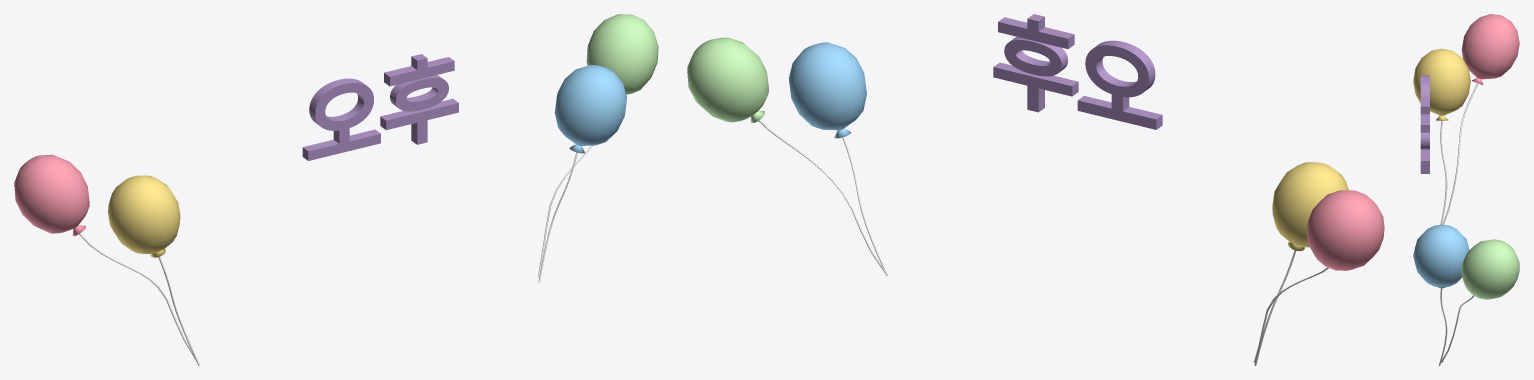
The model's file is BalloonShopDecor_split.glb.
3 renders of one model, left to right at view 1: azimuth 30°, elevation 25°; view 2: azimuth 150°, elevation 25°; view 3: azimuth 270°, elevation 25°, orthographic. The views are drawn at different scales.
Visible parts, largest first — view 1: ShopSign, Balloon3, Balloon1, Balloon2, Balloon4, BalloonStrings; view 2: ShopSign, Balloon3, Balloon4, Balloon1, Balloon2, BalloonStrings; view 3: Balloon1, Balloon4, Balloon2, Balloon3, ShopSign, BalloonStrings.
Boxes of the visible parts, left/top/right/bottom form: ShopSign: left=302, top=54, right=458, bottom=160; Balloon3: left=554, top=64, right=626, bottom=153; Balloon1: left=14, top=154, right=89, bottom=235; Balloon2: left=108, top=175, right=180, bottom=257; Balloon4: left=586, top=14, right=658, bottom=94; BalloonStrings: left=79, top=145, right=592, bottom=365; ShopSign: left=993, top=14, right=1162, bottom=129; Balloon3: left=788, top=42, right=866, bottom=138; Balloon4: left=687, top=37, right=768, bottom=122; Balloon1: left=1306, top=190, right=1384, bottom=270; Balloon2: left=1272, top=162, right=1348, bottom=251; BalloonStrings: left=758, top=120, right=1328, bottom=365; Balloon1: left=1461, top=14, right=1519, bottom=84; Balloon4: left=1461, top=239, right=1519, bottom=299; Balloon2: left=1413, top=48, right=1470, bottom=120; Balloon3: left=1413, top=224, right=1469, bottom=288; ShopSign: left=1420, top=75, right=1429, bottom=173; BalloonStrings: left=1439, top=83, right=1478, bottom=365.
Bounding box in the file's own units: 7.51 × 2.98 × 1.36.
